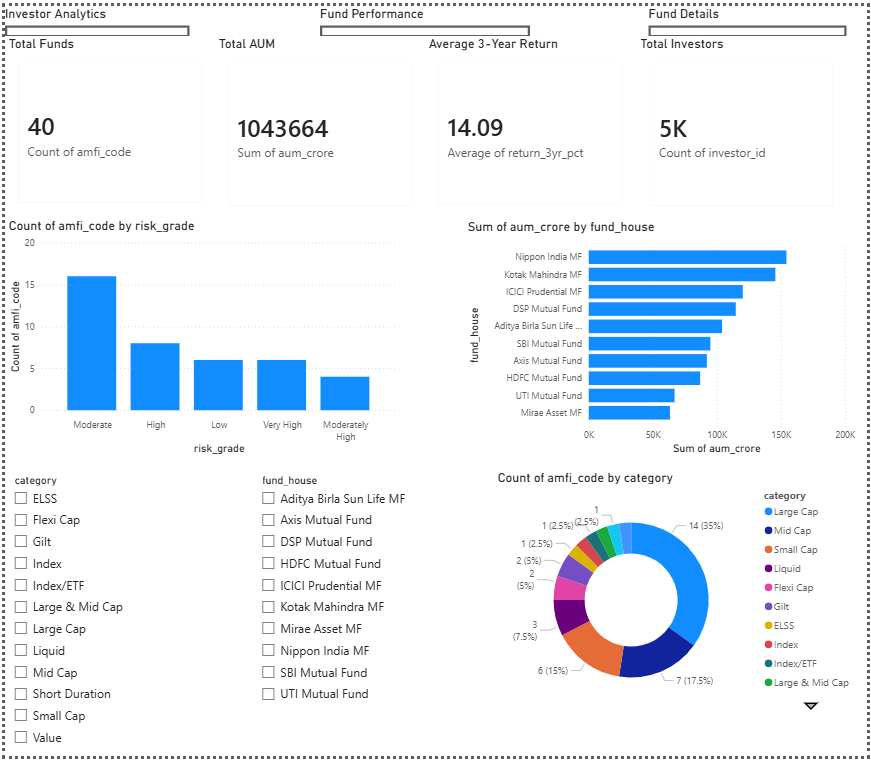

The dashboard page shown, as its layout file describes it:
{"tool":"powerbi","page":{"name":"Executive Dashboard","canvas":[1150,1000],"ordinal":0},"visuals":[{"type":"cardVisual","title":"Total Funds","fields":{"Data":["CountNonNull(clean_scheme_performance.amfi_code)"]},"box":[0,40,280,240],"z":0},{"type":"cardVisual","title":"Total AUM","fields":{"Data":["Sum(clean_scheme_performance.aum_crore)"]},"box":[280,40,280,244],"z":1000},{"type":"cardVisual","title":"Average 3-Year Return","fields":{"Data":["Avg(clean_scheme_performance.return_3yr_pct)"]},"box":[560,40,280,242],"z":2000},{"type":"cardVisual","title":"Total Investors","fields":{"Data":["Count(clean_investor_transactions.investor_id)"]},"box":[842,40,280,244],"z":3000},{"type":"clusteredBarChart","fields":{"Category":["clean_scheme_performance.fund_house"],"Y":["Sum(clean_scheme_performance.aum_crore)"]},"box":[612.1,283.7,526.6,318.7],"z":4000},{"type":"clusteredColumnChart","fields":{"Category":["clean_scheme_performance.risk_grade"],"Y":["CountNonNull(clean_scheme_performance.amfi_code)"]},"box":[0,281.7,526.6,320.6],"z":5000},{"type":"slicer","fields":{"Values":["clean_scheme_performance.fund_house"]},"box":[330.3,617.9,320.6,328.4],"z":6000},{"type":"slicer","fields":{"Values":["clean_scheme_performance.category"]},"box":[0,617.9,279.8,382.8],"z":7000},{"type":"donutChart","fields":{"Category":["clean_scheme_performance.category"],"Y":["CountNonNull(clean_scheme_performance.amfi_code)"]},"box":[651,618,488,328],"z":8000},{"type":"actionButton","title":"Investor Analytics","box":[0,0,246,40],"z":8002},{"type":"actionButton","title":"Fund Performance","box":[420,0,280,40],"z":8003},{"type":"actionButton","title":"Fund Details","box":[858,0,264,40],"z":8004}]}

Visuals, with their boxes in screenshot pixels (x1, y1, x2, y2), scaled from the page's 1150x1000 canvas onto the 871x760 screenshot:
"Total Funds" cardVisual: locate(0, 30, 212, 213)
"Total AUM" cardVisual: locate(212, 30, 424, 216)
"Average 3-Year Return" cardVisual: locate(424, 30, 636, 214)
"Total Investors" cardVisual: locate(638, 30, 850, 216)
clusteredBarChart - clean_scheme_performance.fund_house x Sum(clean_scheme_performance.aum_crore): locate(464, 216, 862, 458)
clusteredColumnChart - clean_scheme_performance.risk_grade x CountNonNull(clean_scheme_performance.amfi_code): locate(0, 214, 399, 458)
slicer - clean_scheme_performance.fund_house: locate(250, 470, 493, 719)
slicer - clean_scheme_performance.category: locate(0, 470, 212, 759)
donutChart - clean_scheme_performance.category x CountNonNull(clean_scheme_performance.amfi_code): locate(493, 470, 863, 719)
"Investor Analytics" actionButton: locate(0, 0, 186, 30)
"Fund Performance" actionButton: locate(318, 0, 530, 30)
"Fund Details" actionButton: locate(650, 0, 850, 30)
